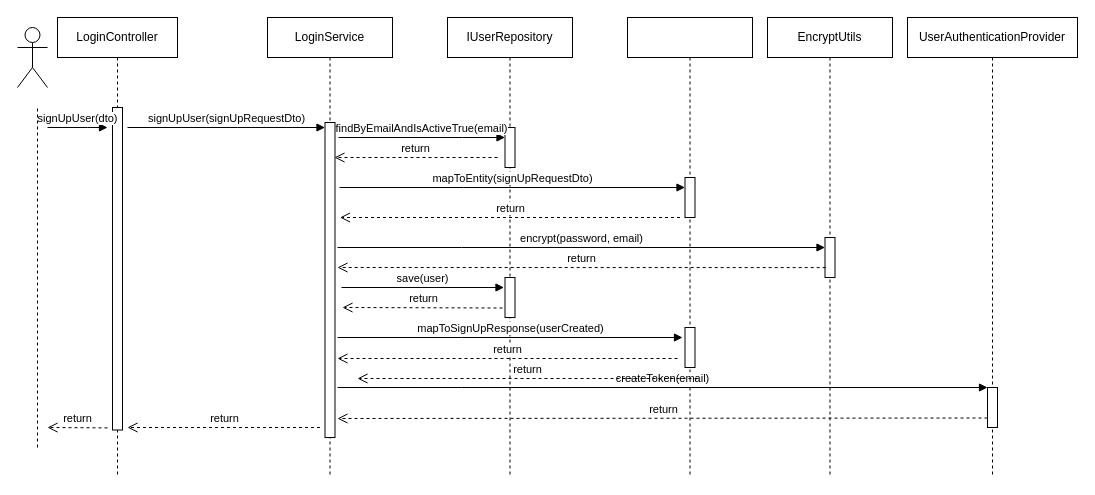
This 1095x495 diagram has some shape labels left out. Here are the shapes that lost their labels. From the top down, the box of each, then its label:
(16, 26, 48, 88): Actor
(626, 16, 752, 478): IUserMapper
